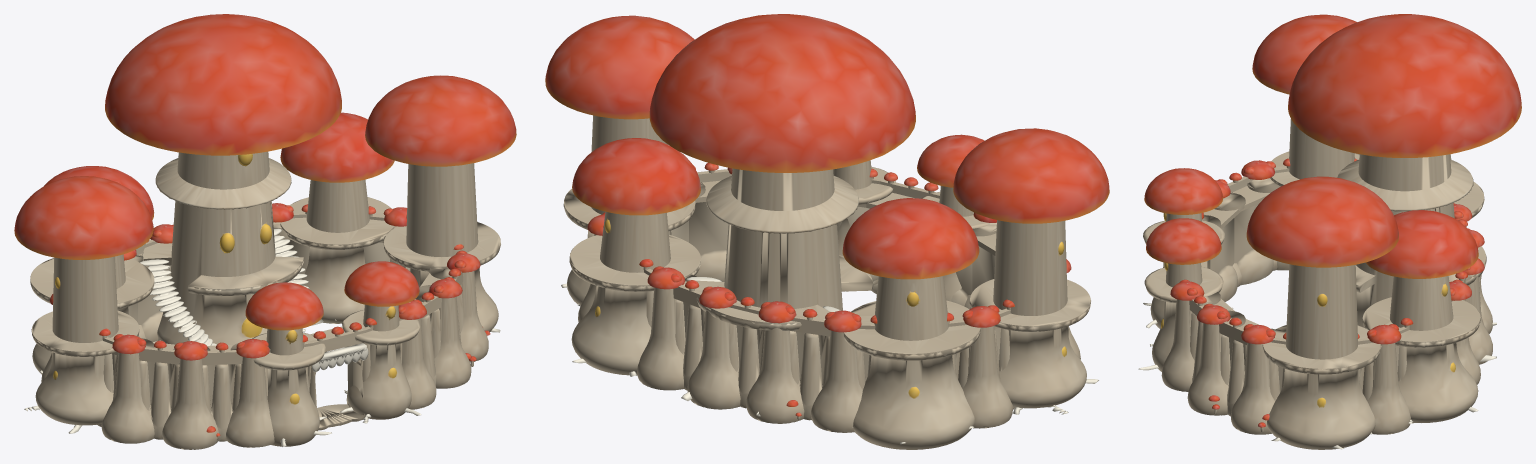
Rendered from castle0.glb.
3 views of the same model, side by side, from view 1: azimuth 30°, elevation 25°; view 2: azimuth 150°, elevation 25°; view 3: azimuth 270°, elevation 25° (orthographic). The views are drawn at different scales.
Visible parts, largest first — view 1: castle_keep, castle_tower_large.1, castle_tower_large.0, castle_tower_small.0, castle_gate_turret.1, castle_gate_turret.0, castle_tower_small.1, castle_wall_joint.10, castle_wall_joint.9, castle_wall_joint.11, castle_wall_gate, castle_wall_joint.1 (+10 smaller); view 2: castle_keep, castle_tower_large.1, castle_tower_small.1, castle_tower_small.0, castle_tower_large.0, castle_wall_joint.6, castle_wall_joint.7, castle_wall_joint.5, castle_wall_joint.4, castle_wall_joint.8, castle_gate_turret.1, castle_wall_bay.9 (+10 smaller); view 3: castle_keep, castle_tower_large.0, castle_tower_small.0, castle_tower_large.1, castle_gate_turret.0, castle_gate_turret.1, castle_wall_joint.2, castle_wall_joint.3, castle_wall_joint.1, castle_wall_joint.0, castle_wall_bay.14, castle_wall_bay.2 (+11 smaller).
Boxes of the visible parts, bbox=[...] form: castle_keep: bbox=[105, 14, 341, 344]; castle_tower_large.1: bbox=[14, 176, 153, 425]; castle_tower_large.0: bbox=[365, 75, 516, 331]; castle_tower_small.0: bbox=[280, 112, 394, 323]; castle_gate_turret.1: bbox=[245, 282, 325, 446]; castle_gate_turret.0: bbox=[342, 261, 420, 419]; castle_tower_small.1: bbox=[30, 166, 154, 374]; castle_wall_joint.10: bbox=[162, 341, 219, 449]; castle_wall_joint.9: bbox=[101, 334, 154, 443]; castle_wall_joint.11: bbox=[226, 339, 274, 447]; castle_wall_gate: bbox=[308, 326, 368, 430]; castle_wall_joint.1: bbox=[415, 279, 471, 388]; castle_keep: bbox=[649, 14, 915, 330]; castle_tower_large.1: bbox=[953, 128, 1109, 408]; castle_tower_small.1: bbox=[842, 198, 980, 449]; castle_tower_small.0: bbox=[569, 138, 701, 375]; castle_tower_large.0: bbox=[545, 15, 695, 305]; castle_wall_joint.6: bbox=[746, 301, 804, 423]; castle_wall_joint.7: bbox=[811, 310, 862, 432]; castle_wall_joint.5: bbox=[687, 286, 740, 409]; castle_wall_joint.4: bbox=[637, 267, 696, 390]; castle_wall_joint.8: bbox=[962, 306, 1013, 428]; castle_gate_turret.1: bbox=[917, 134, 989, 301]; castle_wall_bay.9: bbox=[789, 315, 830, 420]; castle_keep: bbox=[1288, 14, 1521, 327]; castle_tower_large.0: bbox=[1246, 176, 1398, 449]; castle_tower_small.0: bbox=[1362, 210, 1480, 422]; castle_tower_large.1: bbox=[1252, 14, 1359, 186]; castle_gate_turret.0: bbox=[1144, 218, 1223, 371]; castle_gate_turret.1: bbox=[1143, 168, 1224, 328]; castle_wall_joint.2: bbox=[1231, 324, 1275, 434]; castle_wall_joint.3: bbox=[1367, 324, 1410, 434]; castle_wall_joint.1: bbox=[1187, 305, 1245, 415]; castle_wall_joint.0: bbox=[1161, 281, 1220, 391]; castle_wall_bay.14: bbox=[1227, 176, 1273, 285]; castle_wall_bay.2: bbox=[1219, 319, 1258, 416].
Bounding box in the file's own units: 33.56 × 21.08 × 22.96.
